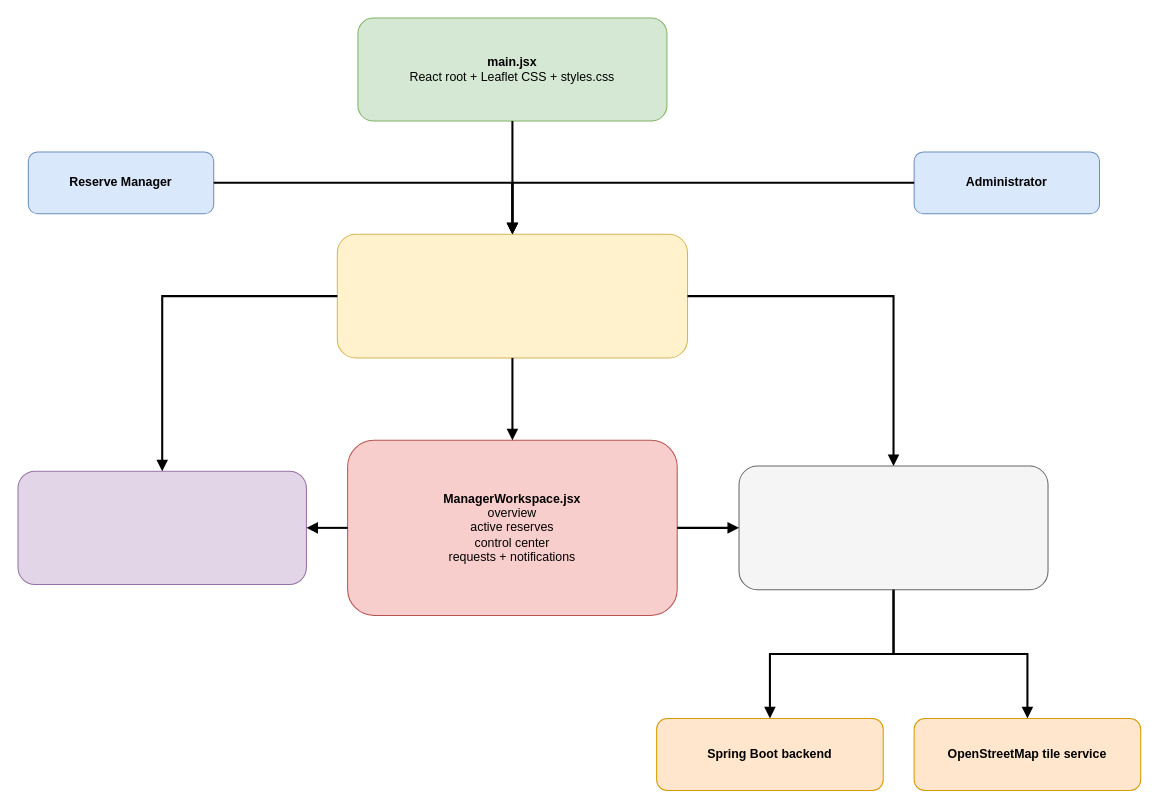
The diagram is 1159 pixels wide and 809 high, and some of its shapes have lost their labels. Each missing label, with the centre of its shape:
"App.jsx token state, auth screens, admin console, API orchestration" belongs at [512,295].
"Browser state localStorage token React state + derived summaries" belongs at [161,527].
"Shared integrations Axios API calls React Leaflet maps and markers" belongs at [893,527].
